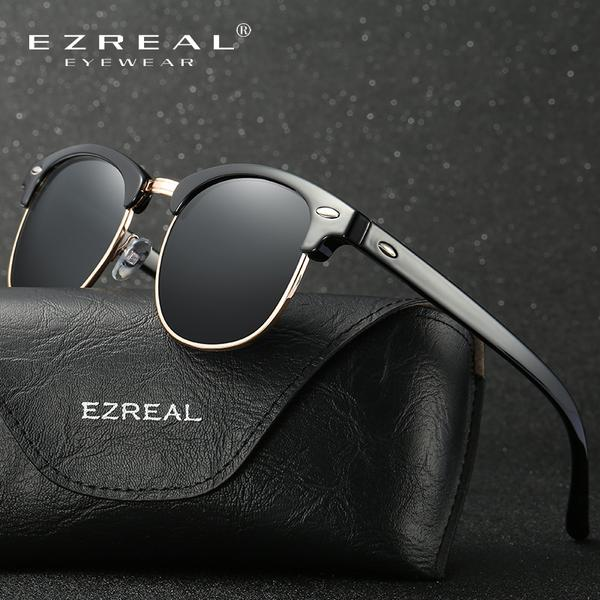sunglasses: (6, 142, 467, 421)
